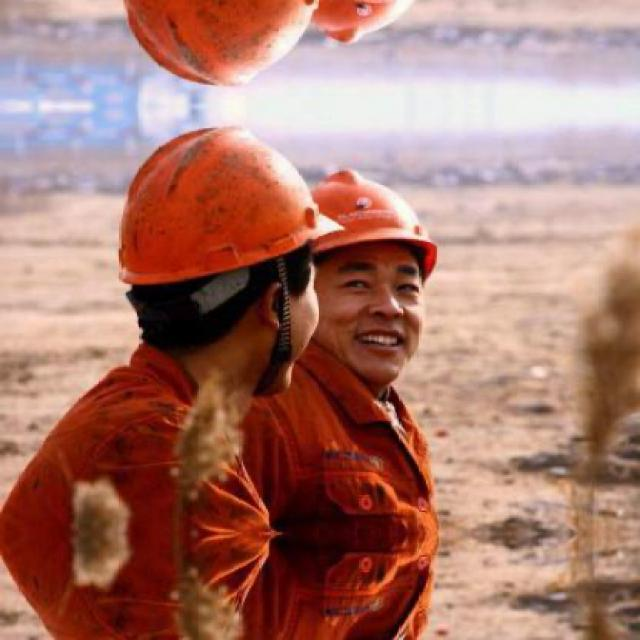helmet: (89, 106, 326, 401), (281, 157, 454, 392), (88, 0, 326, 108), (280, 0, 454, 57)
